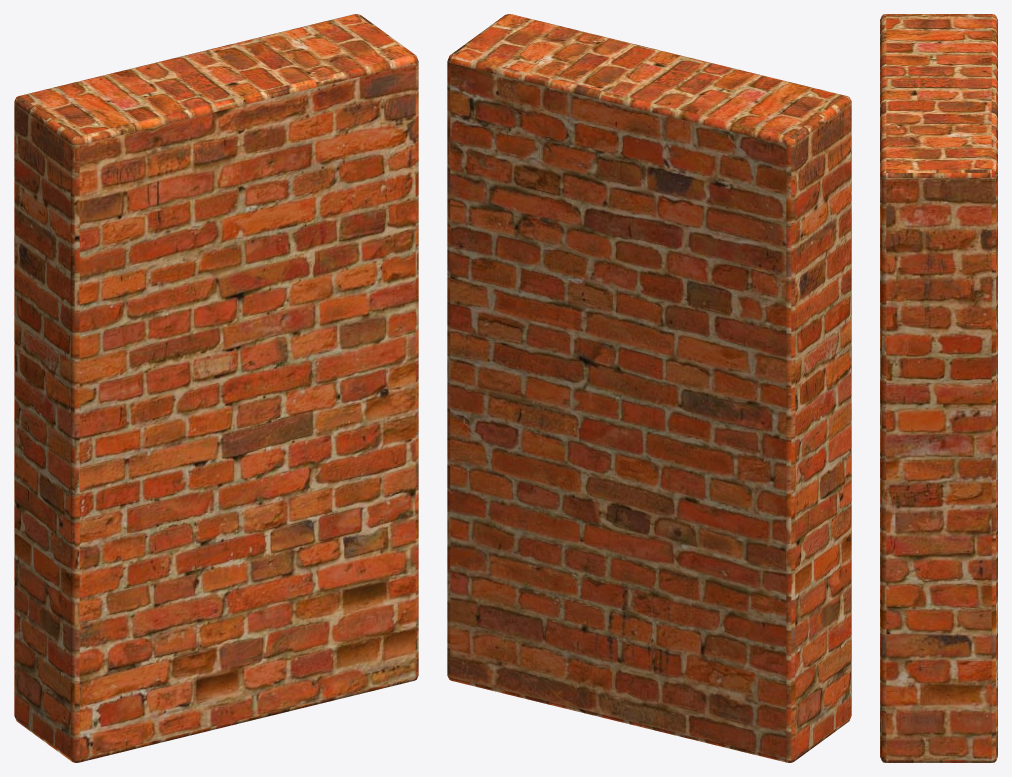
3 views of the same model, side by side, from view 1: azimuth 30°, elevation 25°; view 2: azimuth 150°, elevation 25°; view 3: azimuth 270°, elevation 25° (orthographic). The views are drawn at different scales.
Visible parts, largest first — view 1: Combined_Mesh__root__scene___138088_scene__3; view 2: Combined_Mesh__root__scene___138088_scene__3; view 3: Combined_Mesh__root__scene___138088_scene__3.
Boxes of the visible parts, x1,y1,x2,y2 form: Combined_Mesh__root__scene___138088_scene__3: (14,14,418,762); Combined_Mesh__root__scene___138088_scene__3: (447,14,851,762); Combined_Mesh__root__scene___138088_scene__3: (880,14,997,762).
Size of the model in its own units: 12.23 by 21.06 by 3.79.
